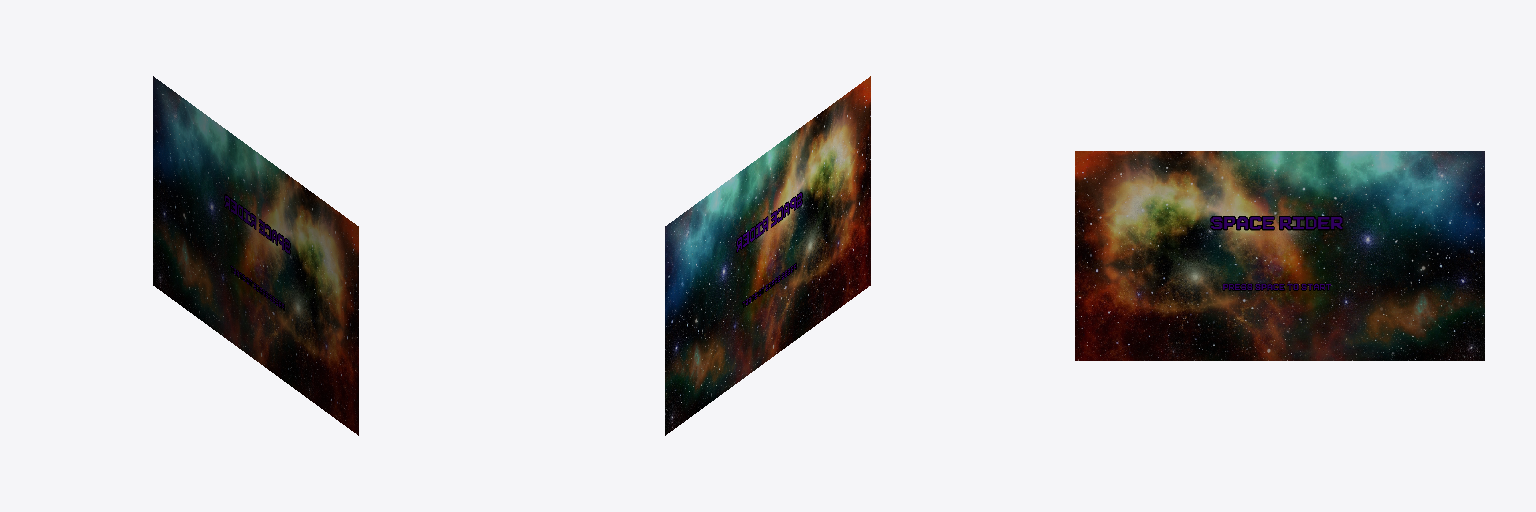
3 renders of one model, left to right at view 1: azimuth 30°, elevation 25°; view 2: azimuth 150°, elevation 25°; view 3: azimuth 270°, elevation 25°, orthographic.
Parts seen in each view (by area): view 1: Fläche; view 2: Fläche; view 3: Fläche.
Boxes of the visible parts, x1,y1,x2,y2 form: Fläche: [153, 76, 358, 435]; Fläche: [665, 76, 870, 435]; Fläche: [1075, 151, 1484, 360].
Size of the model in its own units: 0 by 18 by 32.
1 materials, 1 textured.